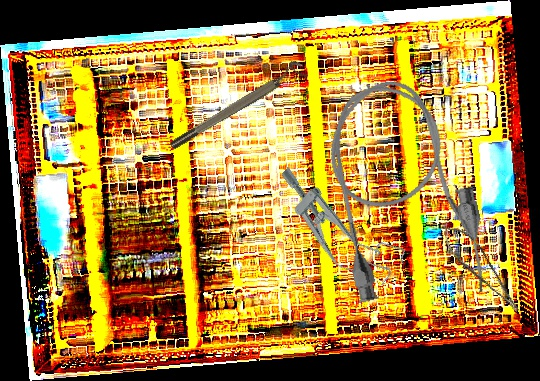Cannula: (312, 67, 497, 320)
Fixation Ring: (164, 57, 309, 153)
Micro Scissor: (438, 218, 523, 324)
Speculum: (259, 157, 411, 298)
